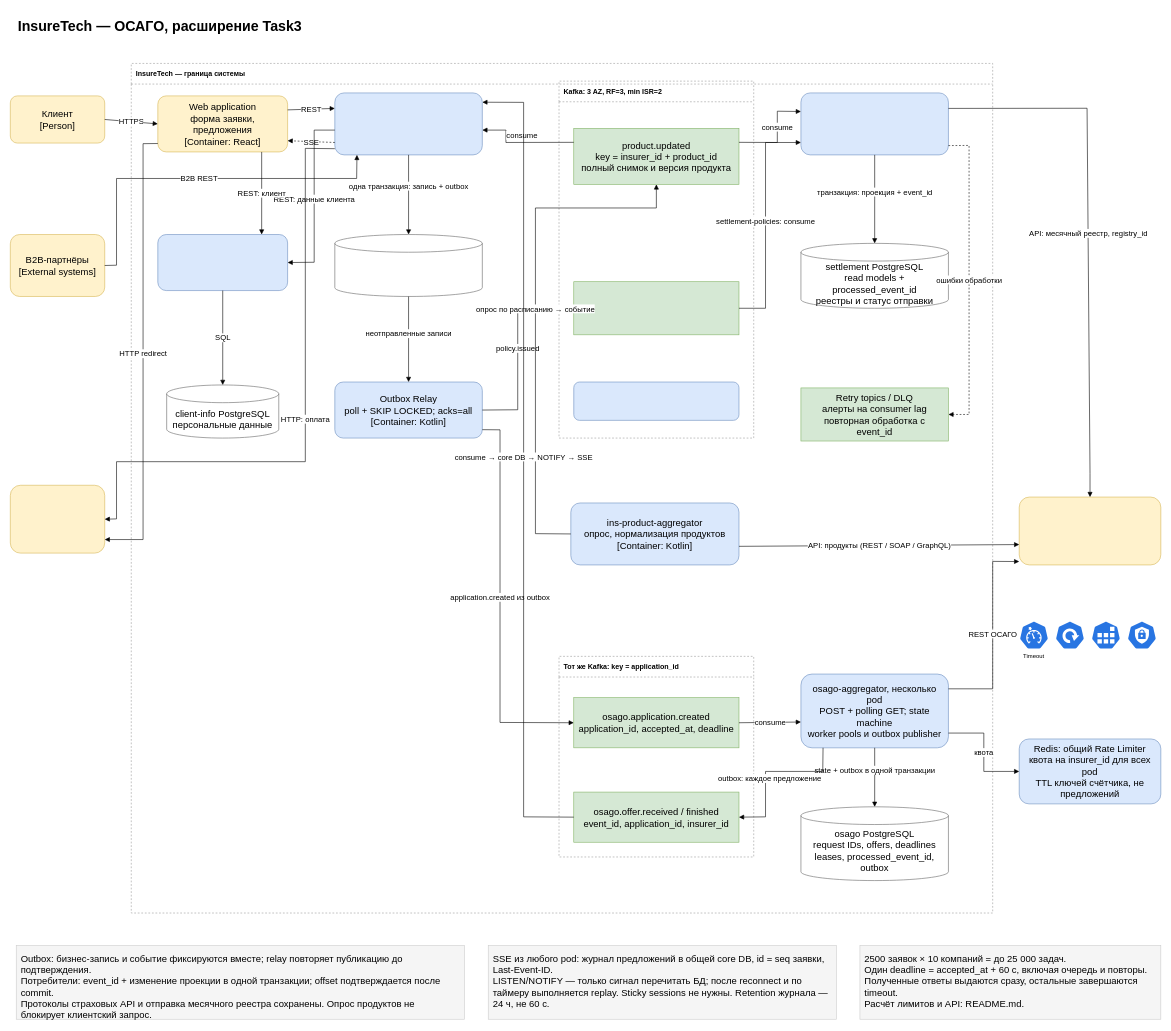
This 1171x1031 diagram has some shape labels left out. The shapes that lost their labels are listed below. From the top down, each one's box as (x1, y1, x2, y2) in pixels, then its label:
(334, 92, 482, 155): core-app, несколько pod страховки, ОСАГО, SSE [Container: Kotlin]
(800, 92, 948, 155): ins-comp-settlement проекции и месячный реестр [Container: Kotlin]
(157, 234, 288, 291): client-info данные клиента [Container: Kotlin]
(334, 234, 482, 296): core PostgreSQL policy / application + outbox проекции, offers + event log
(573, 281, 739, 335): policy.issued key = policy_id event_id, schema_version
(573, 381, 739, 420): Schema Registry backward compatibility
(10, 485, 105, 553): Платёжный сервис [External system]
(1019, 496, 1161, 565): Страховые компании: 5 → 10 [External systems] продукты, реестры, ОСАГО
(1055, 620, 1085, 649): Retry
(1091, 620, 1121, 649): Rate Limiter
(1127, 620, 1157, 649): Circuit Breaker
